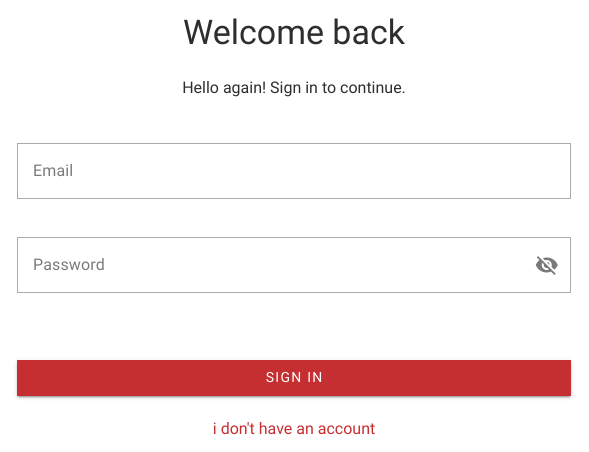
Test: AuthForm › displays server error on login failure
In the field labelled "Email": coordinates (294, 170) [17,142,571,198], type "fail@example.com"
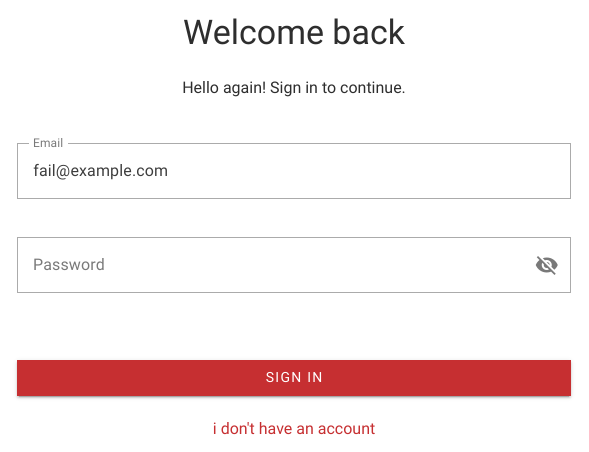
In the password field labelled "Password": coordinates (276, 264) [17,236,535,292], type "wrongpass"
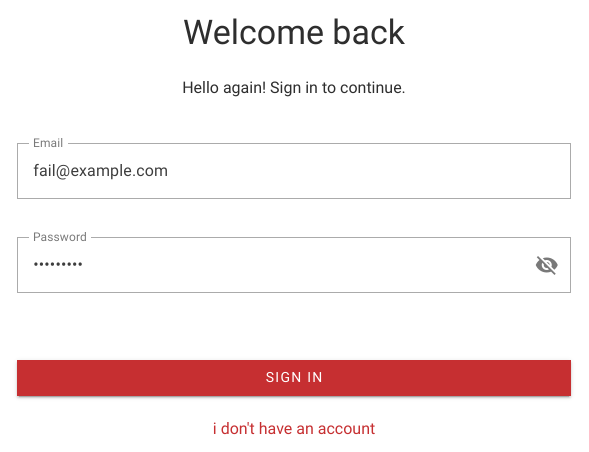
Submit the form, box [17,122,571,396]
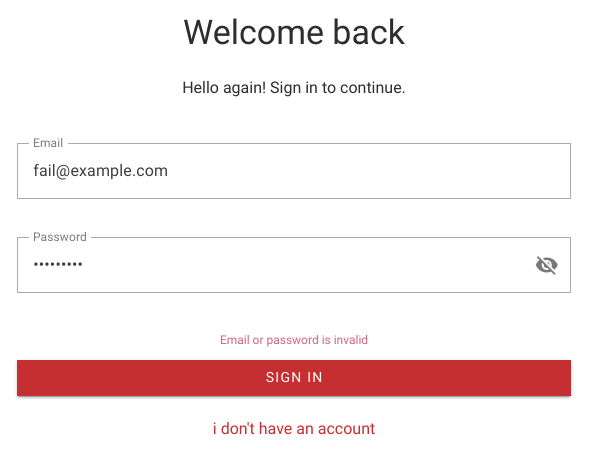
Expected: the text "Email or password is invalid" is shown, [220,334,368,346]
Expected: the text with class "auth__form-error-text" reads "Email or password is invalid", [220,332,368,346]
